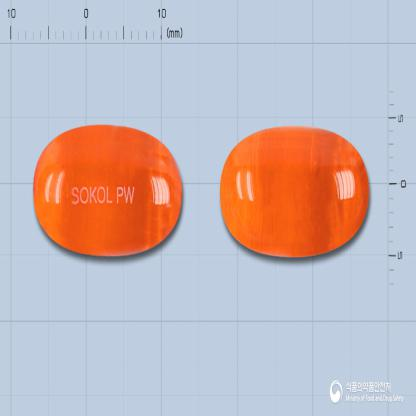pill: (32, 122, 184, 258), (218, 124, 370, 257)
